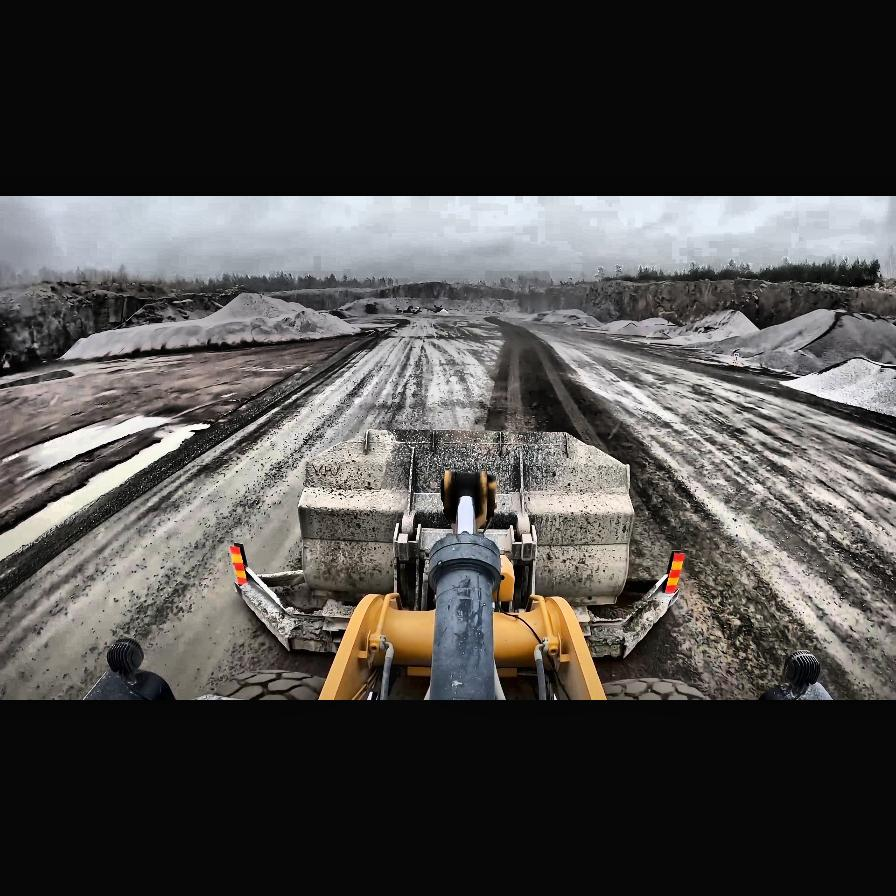anchor: (440, 470, 494, 526)
pile of gravel: (58, 292, 364, 364), (686, 308, 896, 378), (776, 354, 896, 416), (599, 308, 751, 344), (113, 292, 227, 326), (200, 292, 306, 321), (604, 318, 678, 336), (534, 309, 592, 325), (636, 317, 674, 325)
